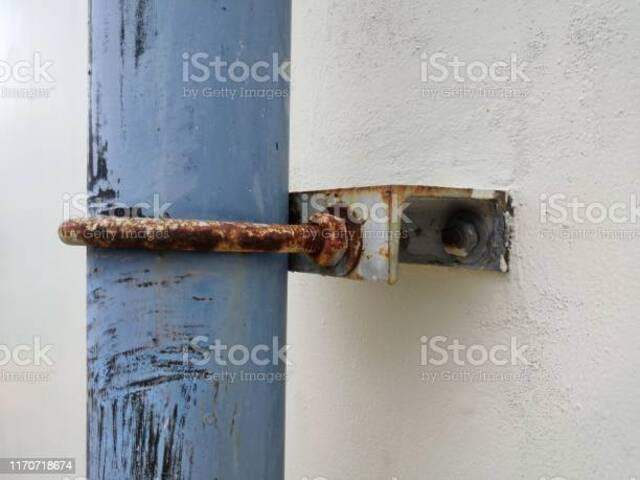Low: (327, 183, 469, 205)
Moderate: (62, 208, 360, 267)
